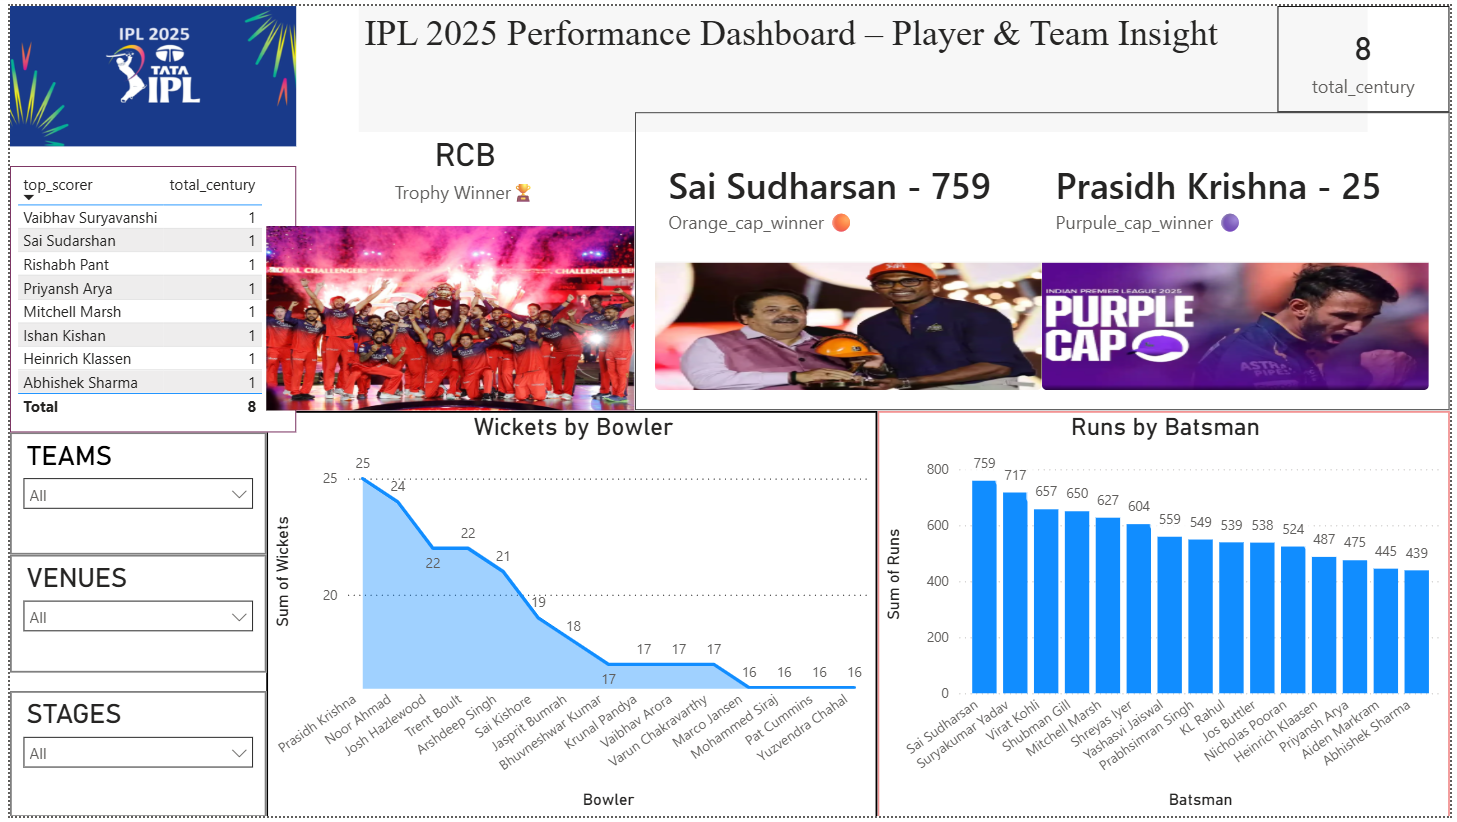

Layout of this report page (visuals, bound fields, positions):
{"tool":"powerbi","page":{"name":"Page 1","canvas":[1280,720],"ordinal":0},"visuals":[{"type":"cardVisual","fields":{"Data":["Orange cap.Orange_cap_winner","Purpule cap.Purpule_cap_winner"]},"box":[555.3,94.3,724.4,265.2],"z":0},{"type":"lineStackedColumnComboChart","title":"Runs by Batsman","fields":{"Category":["Orange cap.Batsman"],"Y":["Sum(Orange cap.Runs)"]},"box":[770.6,359.5,509,361.3],"z":1000},{"type":"areaChart","title":" Wickets by Bowler","fields":{"Category":["Purpule cap.Bowler"],"Y":["Sum(Purpule cap.Wickets)"]},"box":[227.8,359.5,542.8,361.3],"z":2000},{"type":"slicer","fields":{"Values":["matches.team1"]},"box":[0,379.1,227.8,108.6],"z":3000},{"type":"card","fields":{"Values":["matches.Trophy Winner"]},"box":[254.5,51.6,300.8,179.8],"z":4000},{"type":"textbox","box":[309.7,0,897,112.1],"z":5000},{"type":"card","fields":{"Values":["matches.total_century"]},"box":[1126.6,0,153.1,94.3],"z":6000},{"type":"tableEx","fields":{"Values":["matches.top_scorer","matches.total_century"]},"box":[0,142.4,254.5,236.7],"z":7000},{"type":"image","box":[0,0,254.5,124.6],"z":8000},{"type":"image","box":[227.8,195.8,327.5,163.7],"z":9000},{"type":"slicer","fields":{"Values":["matches.venue"]},"box":[0,487.7,227.8,105],"z":10000},{"type":"slicer","fields":{"Values":["matches.stage"]},"box":[0,608.7,227.8,112.1],"z":10001}]}

Visuals, with their boxes in screenshot pixels (x1, y1, x2, y2), scaled from the page's 1280x720 canvas onto the 1457x822 screenshot:
cardVisual - Orange cap.Orange_cap_winner x Purpule cap.Purpule_cap_winner: (632,108,1456,410)
"Runs by Batsman" lineStackedColumnComboChart: (877,410,1456,821)
" Wickets by Bowler" areaChart: (259,410,877,821)
slicer - matches.team1: (0,433,259,557)
card - matches.Trophy Winner: (290,59,632,264)
textbox: (353,0,1374,128)
card - matches.total_century: (1282,0,1456,108)
tableEx - matches.top_scorer x matches.total_century: (0,163,290,433)
image: (0,0,290,142)
image: (259,224,632,410)
slicer - matches.venue: (0,557,259,677)
slicer - matches.stage: (0,695,259,821)
